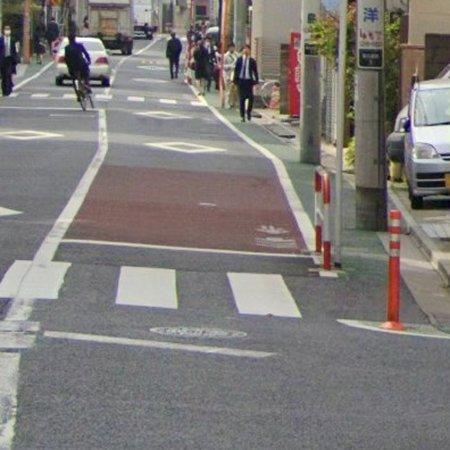crosswalks: (0, 257, 306, 320)
